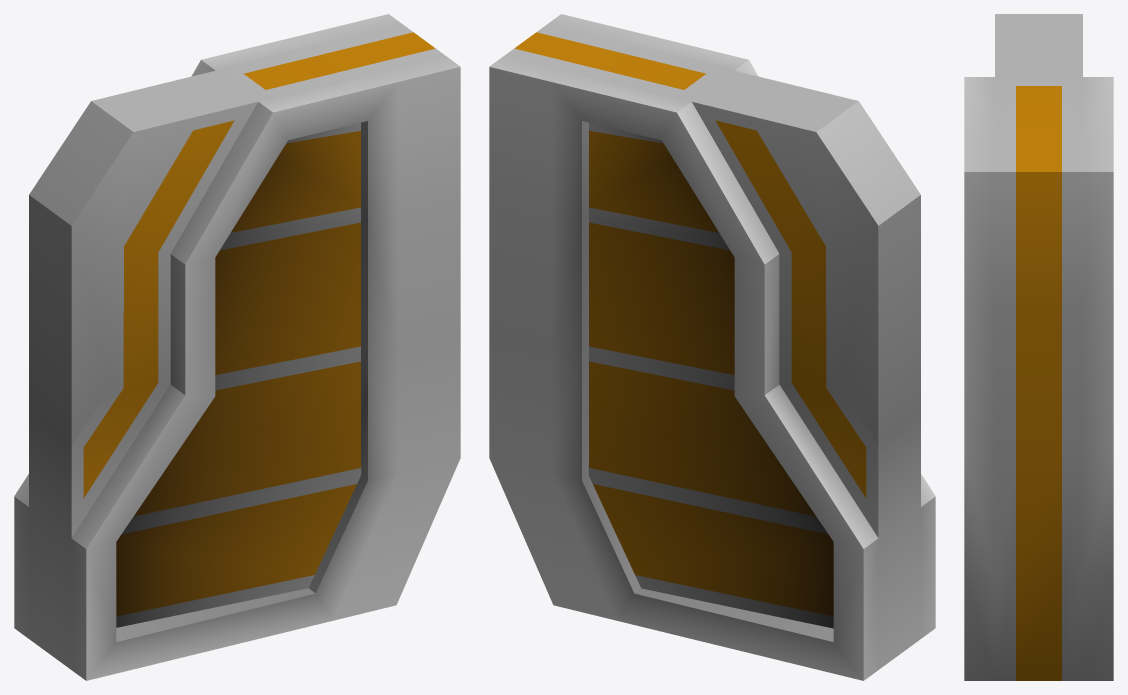
File: obj_dekotora_lightpanel02.fbx
The picture shows the model from 3 angles, left to right: view 1: azimuth 30°, elevation 25°; view 2: azimuth 150°, elevation 25°; view 3: azimuth 270°, elevation 25°; orthographic projection. The views are drawn at different scales.
Parts seen in each view (by area): view 1: Cube.076, Cube.077; view 2: Cube.076, Cube.077; view 3: Cube.076.
Boxes of the visible parts, <box> form: Cube.076: <box>14,14,460,680</box>; Cube.077: <box>116,122,361,627</box>; Cube.076: <box>489,14,935,680</box>; Cube.077: <box>588,122,833,628</box>; Cube.076: <box>964,14,1113,680</box>.
Bounding box in the file's own units: 3 × 4 × 1.
